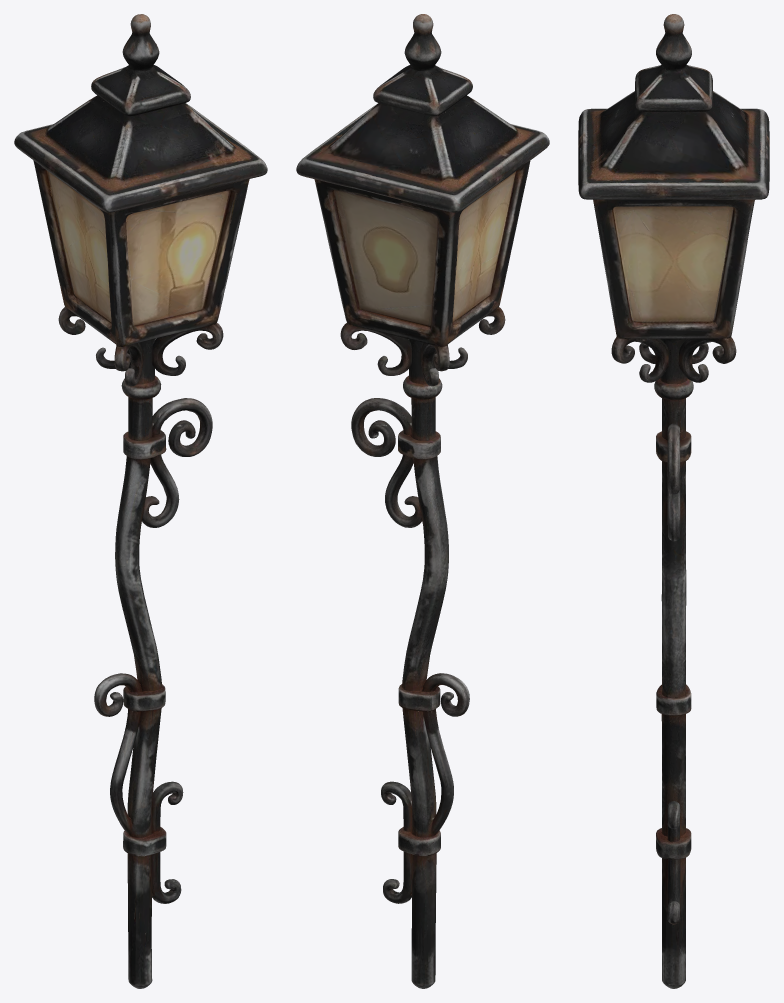
Rendered from lamp-post.glb.
3 views of the same model, side by side, from view 1: azimuth 30°, elevation 25°; view 2: azimuth 150°, elevation 25°; view 3: azimuth 270°, elevation 25° (orthographic).
Visible parts, largest first — view 1: Mesh_0; view 2: Mesh_0; view 3: Mesh_0.
Part boxes in pixels (bbox=[...]): Mesh_0: bbox=[14, 14, 267, 988]; Mesh_0: bbox=[296, 14, 549, 988]; Mesh_0: bbox=[578, 14, 769, 988].
Bounding box in the file's own units: 0.3396 × 1.9 × 0.3396.
Materials: 1 (1 with a texture image).
